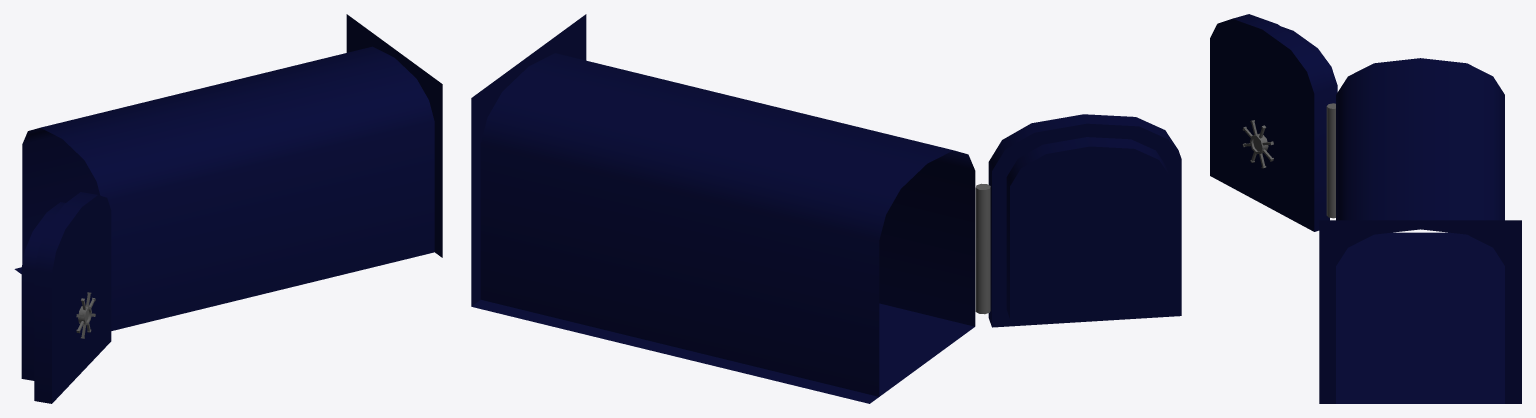
The model's file is VaultDoor.fbx.
3 views of the same model, side by side, from view 1: azimuth 30°, elevation 25°; view 2: azimuth 150°, elevation 25°; view 3: azimuth 270°, elevation 25° (orthographic). The views are drawn at different scales.
Parts seen in each view (by area): view 1: Plane; view 2: Plane; view 3: Plane.
Part boxes in pixels (x1,y1,x2,y2): Plane: (14, 14, 442, 403); Plane: (471, 14, 1181, 403); Plane: (1210, 14, 1521, 403).
Size of the model in its own units: 273 by 100 by 154.
